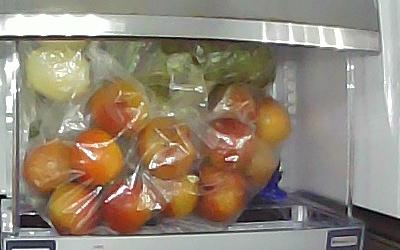prune_vinyl: (136, 117, 200, 179), (194, 163, 249, 223), (100, 178, 156, 235), (71, 128, 125, 185), (90, 79, 147, 132), (49, 182, 102, 236), (207, 82, 257, 138), (201, 118, 255, 169), (22, 140, 72, 193), (146, 174, 198, 218), (242, 137, 278, 190), (255, 97, 292, 141)
